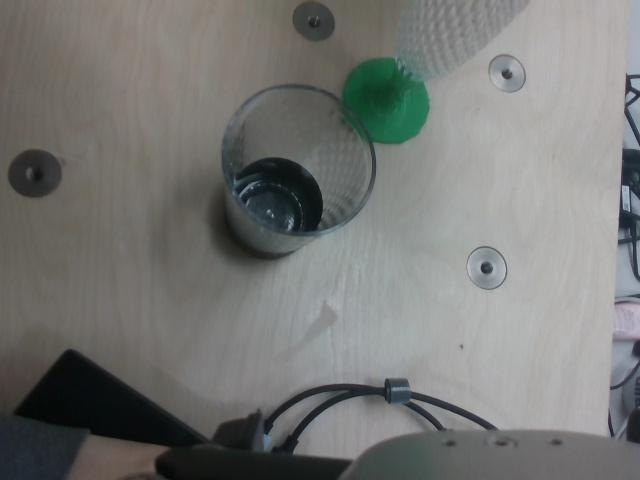black_cup: (224, 156, 326, 257)
green_cup: (342, 57, 429, 145)
